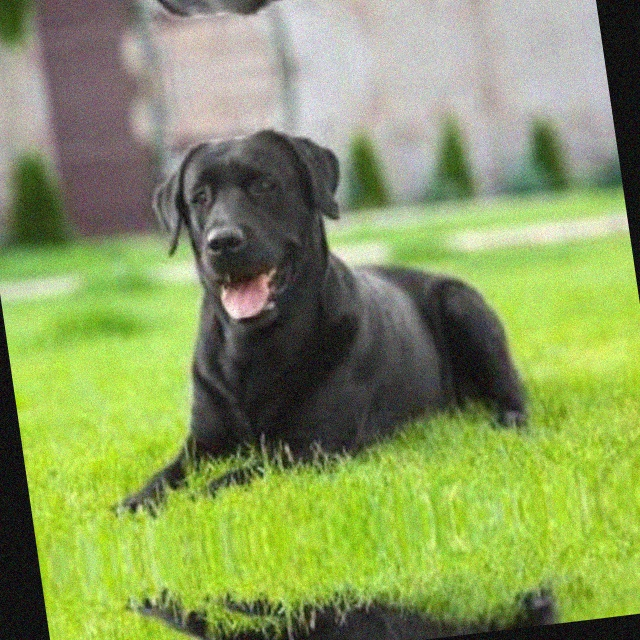dog: (45, 87, 556, 503), (114, 562, 581, 640), (22, 0, 491, 53)
